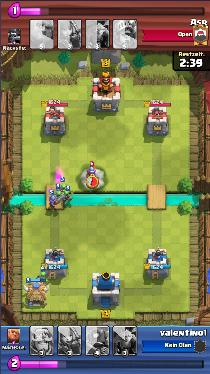ally_musketeer: (49, 194, 61, 209)
ally_spear_goblin: (37, 271, 47, 282), (63, 191, 73, 200), (59, 183, 67, 192), (55, 192, 62, 198)
enemy_goblin_hut: (23, 281, 49, 308)
enemy_musketeer: (86, 166, 97, 182)
